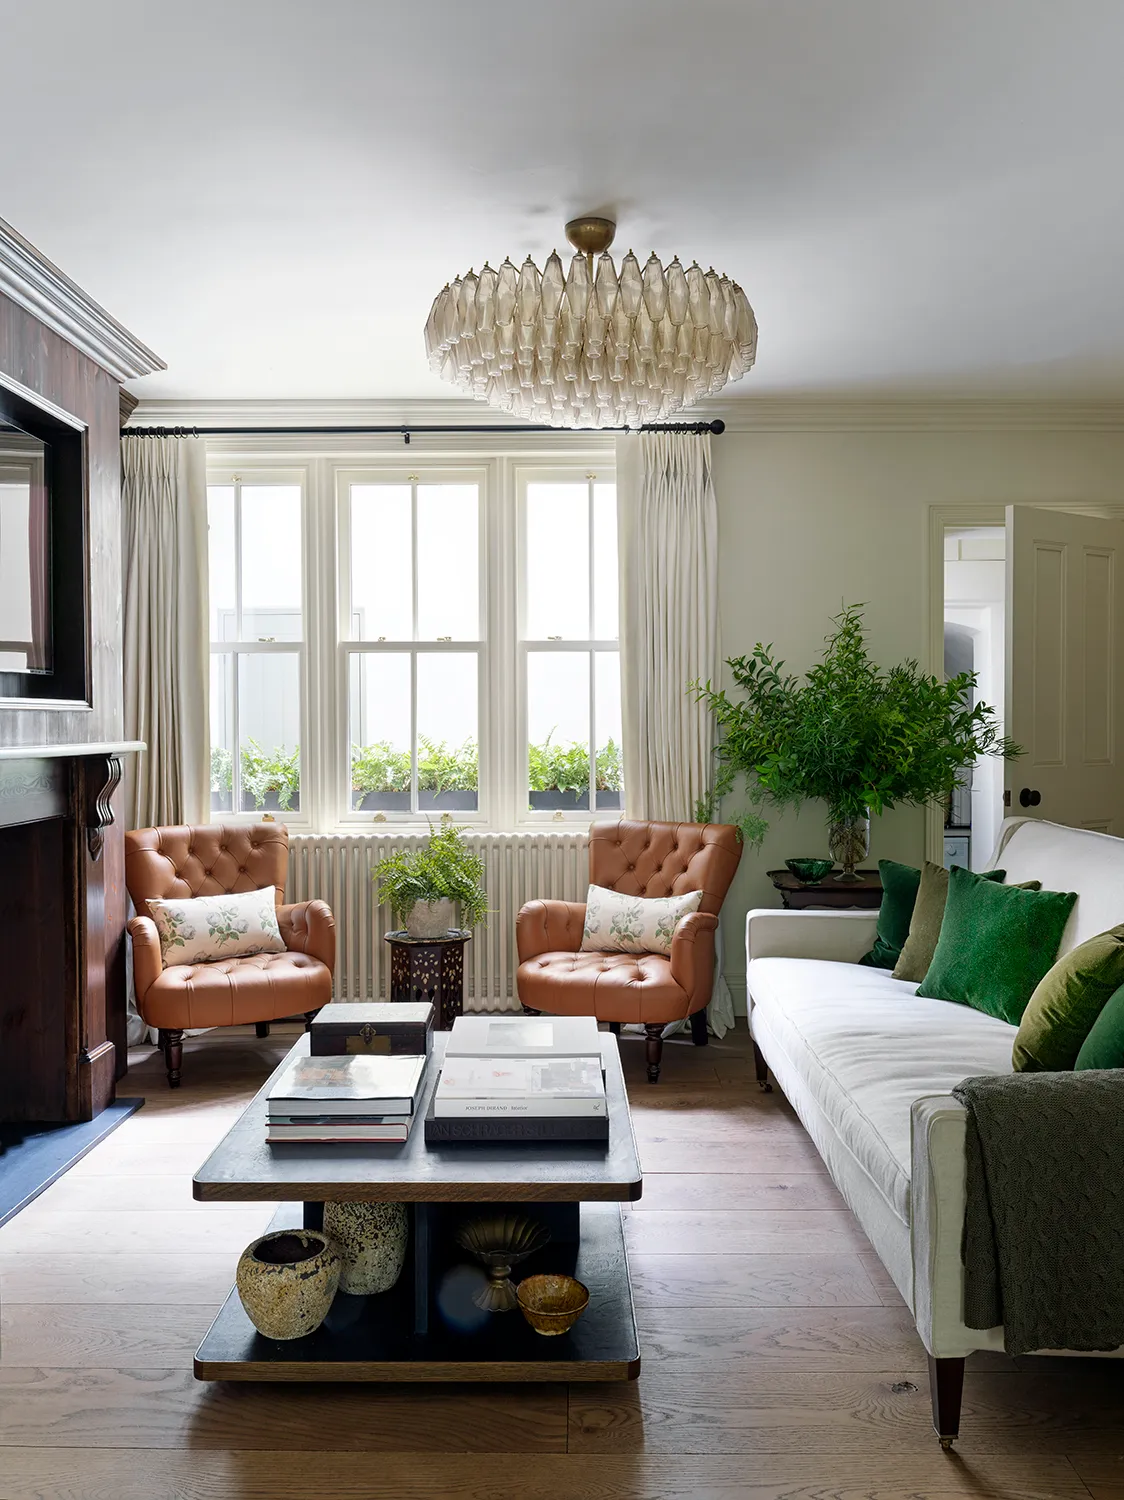chair: (113, 808, 345, 1088), (510, 811, 728, 1073)
small plant: (690, 611, 1017, 876), (381, 819, 492, 939)
sofa: (736, 813, 1124, 1449)
table: (190, 991, 656, 1402)
